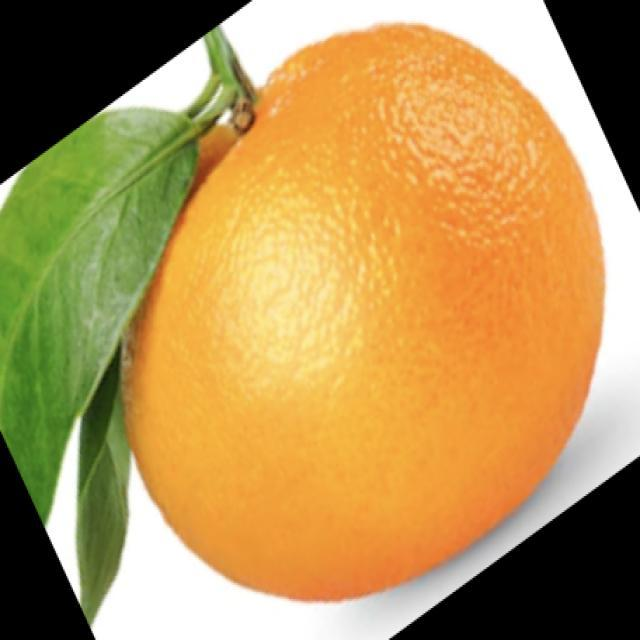Orange: (118, 20, 606, 604)
